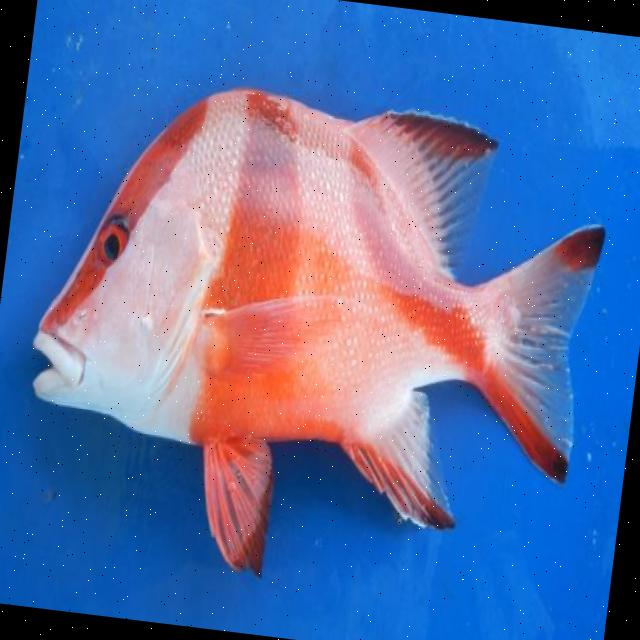ikan: (6, 61, 618, 613)
